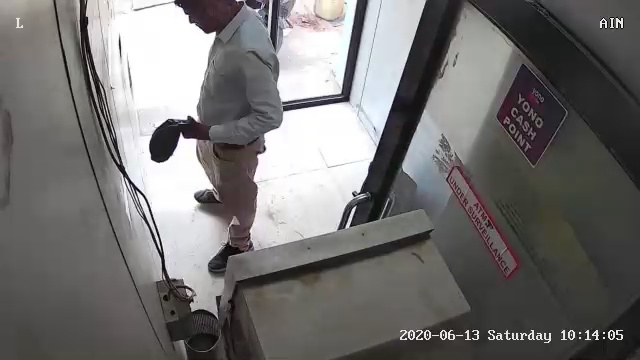open: (319, 4, 633, 355)
